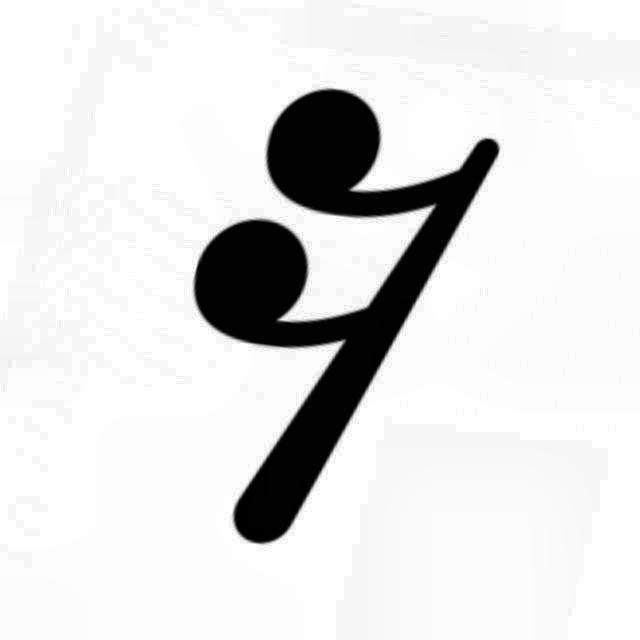Eighth-rest: (127, 80, 526, 556)
